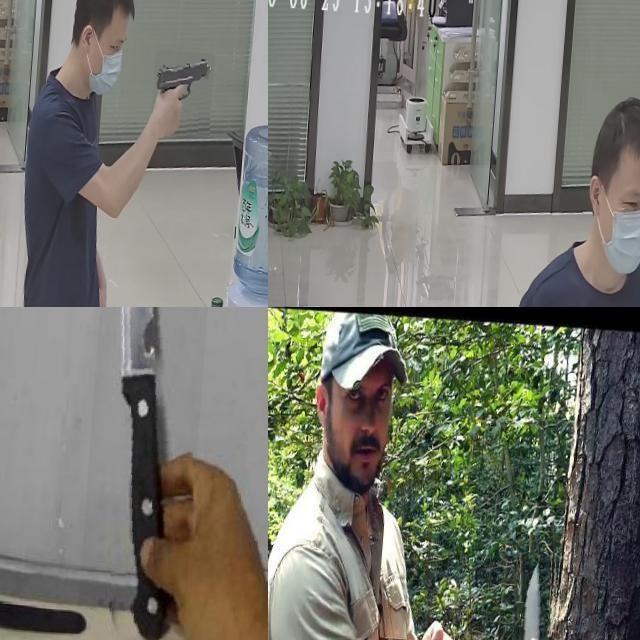-: (85, 307, 224, 640), (510, 544, 572, 640)
gun-knife-thesis - v11 Yolov5 augmented: (152, 45, 216, 134)
